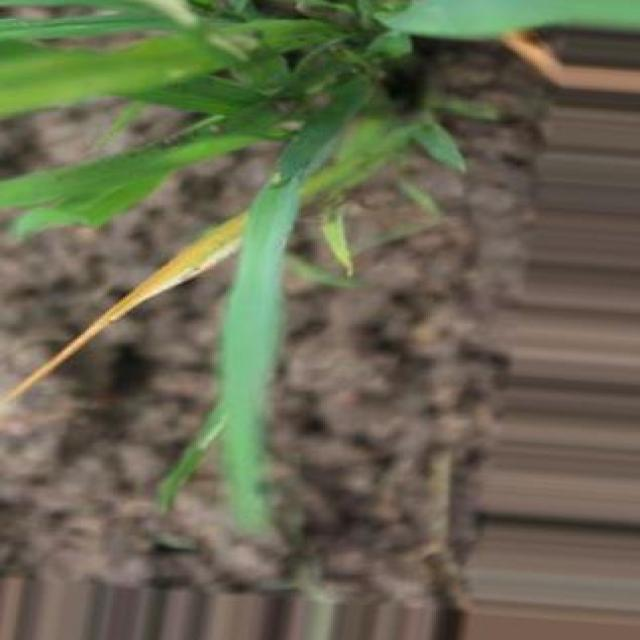Rice Tungro: (0, 214, 244, 407)
